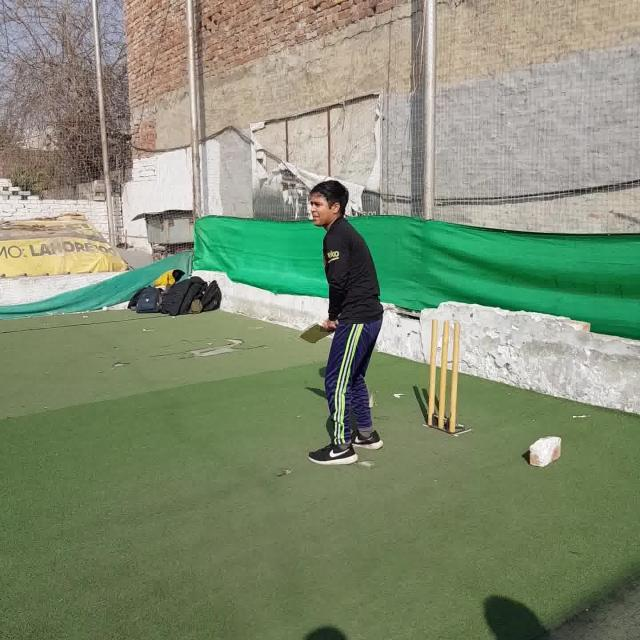bat: (300, 320, 340, 343)
